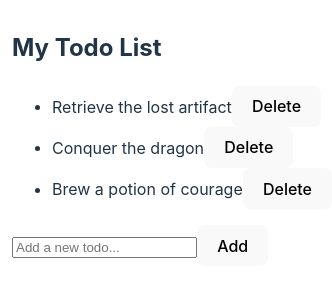
TodoList component › allows a todo to be added
Type "New Todo" into the field with placeholder "Add a new todo...".
click(104, 247); type("New Todo")  # box top-left (12, 237), bottom-right (197, 258)
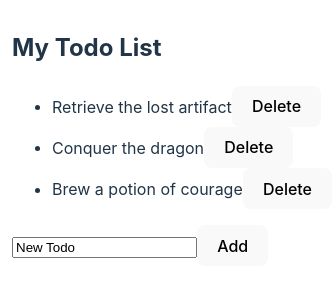
Click the button "Add".
click(233, 246)  # box top-left (197, 225), bottom-right (268, 266)
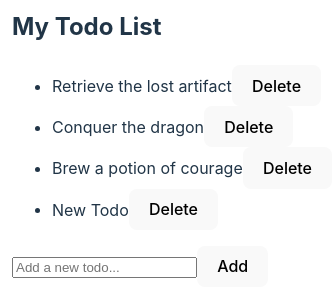
Check: the list item "New Todo" is shown, box top-left (52, 199), bottom-right (129, 219)
